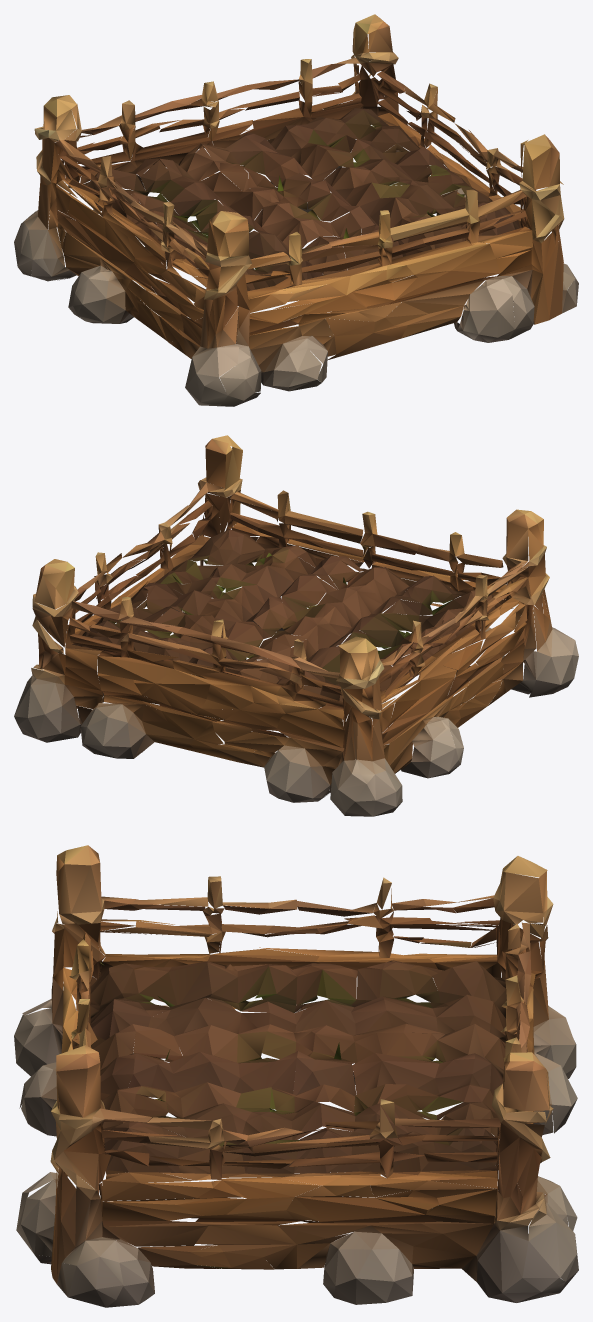
Rendered from building-garden-bed.glb.
The picture shows the model from 3 angles, top to bottom: view 1: azimuth 30°, elevation 25°; view 2: azimuth 150°, elevation 25°; view 3: azimuth 270°, elevation 25°; orthographic projection. The views are drawn at different scales.
Visible parts, largest first — view 1: 0_garden; view 2: 0_garden; view 3: 0_garden.
Part boxes in pixels (left/top/right/bottom): 0_garden: left=14, top=14, right=578, bottom=406; 0_garden: left=14, top=435, right=578, bottom=816; 0_garden: left=14, top=845, right=578, bottom=1307.
Bounding box in the file's own units: 3.84 × 1.65 × 3.57.
